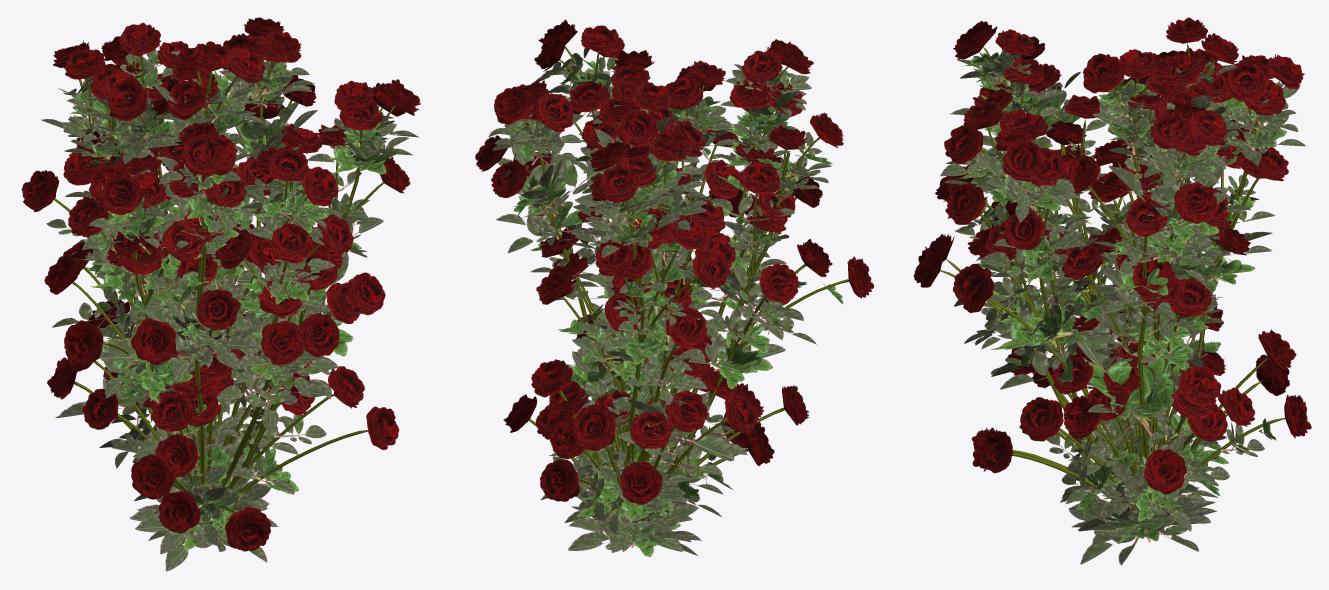
The model's file is rose.glb.
3 views of the same model, side by side, from view 1: azimuth 30°, elevation 25°; view 2: azimuth 150°, elevation 25°; view 3: azimuth 270°, elevation 25° (orthographic). The views are drawn at different scales.
Bounding box in the file's own units: 0.868 × 1.2 × 0.8604.
3 materials, 3 textured.
